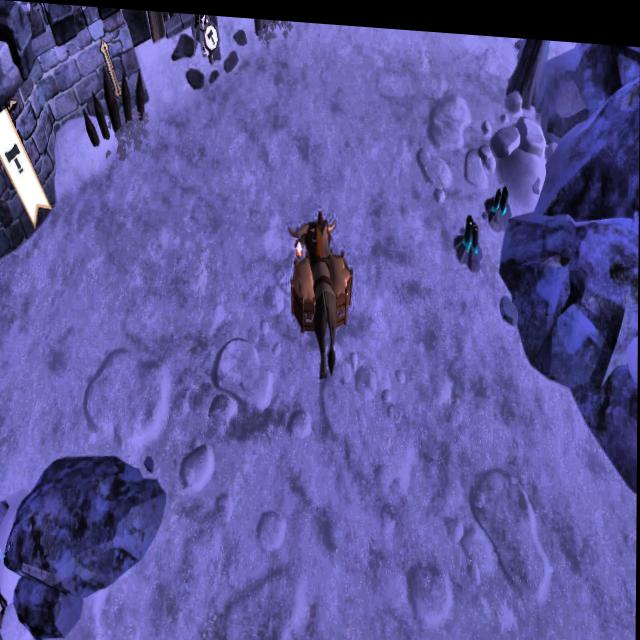ore_t4: (463, 204, 481, 248), (492, 174, 511, 215)
